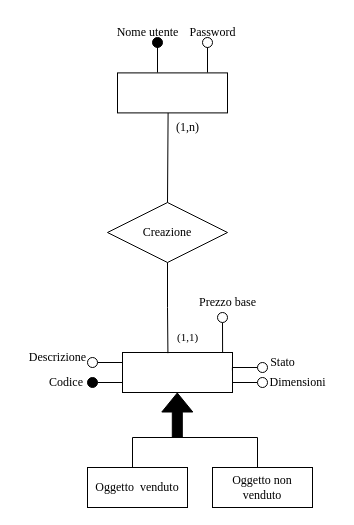
The diagram is 354 pixels wide and 525 high, and some of its shapes have lost their labels. The shapes that lost their labels are listed below. From the top down, each one's centre as x and y in pixels, then its label:
At [172,92]: "Amministratore".
At [177,372]: "Oggetto".
